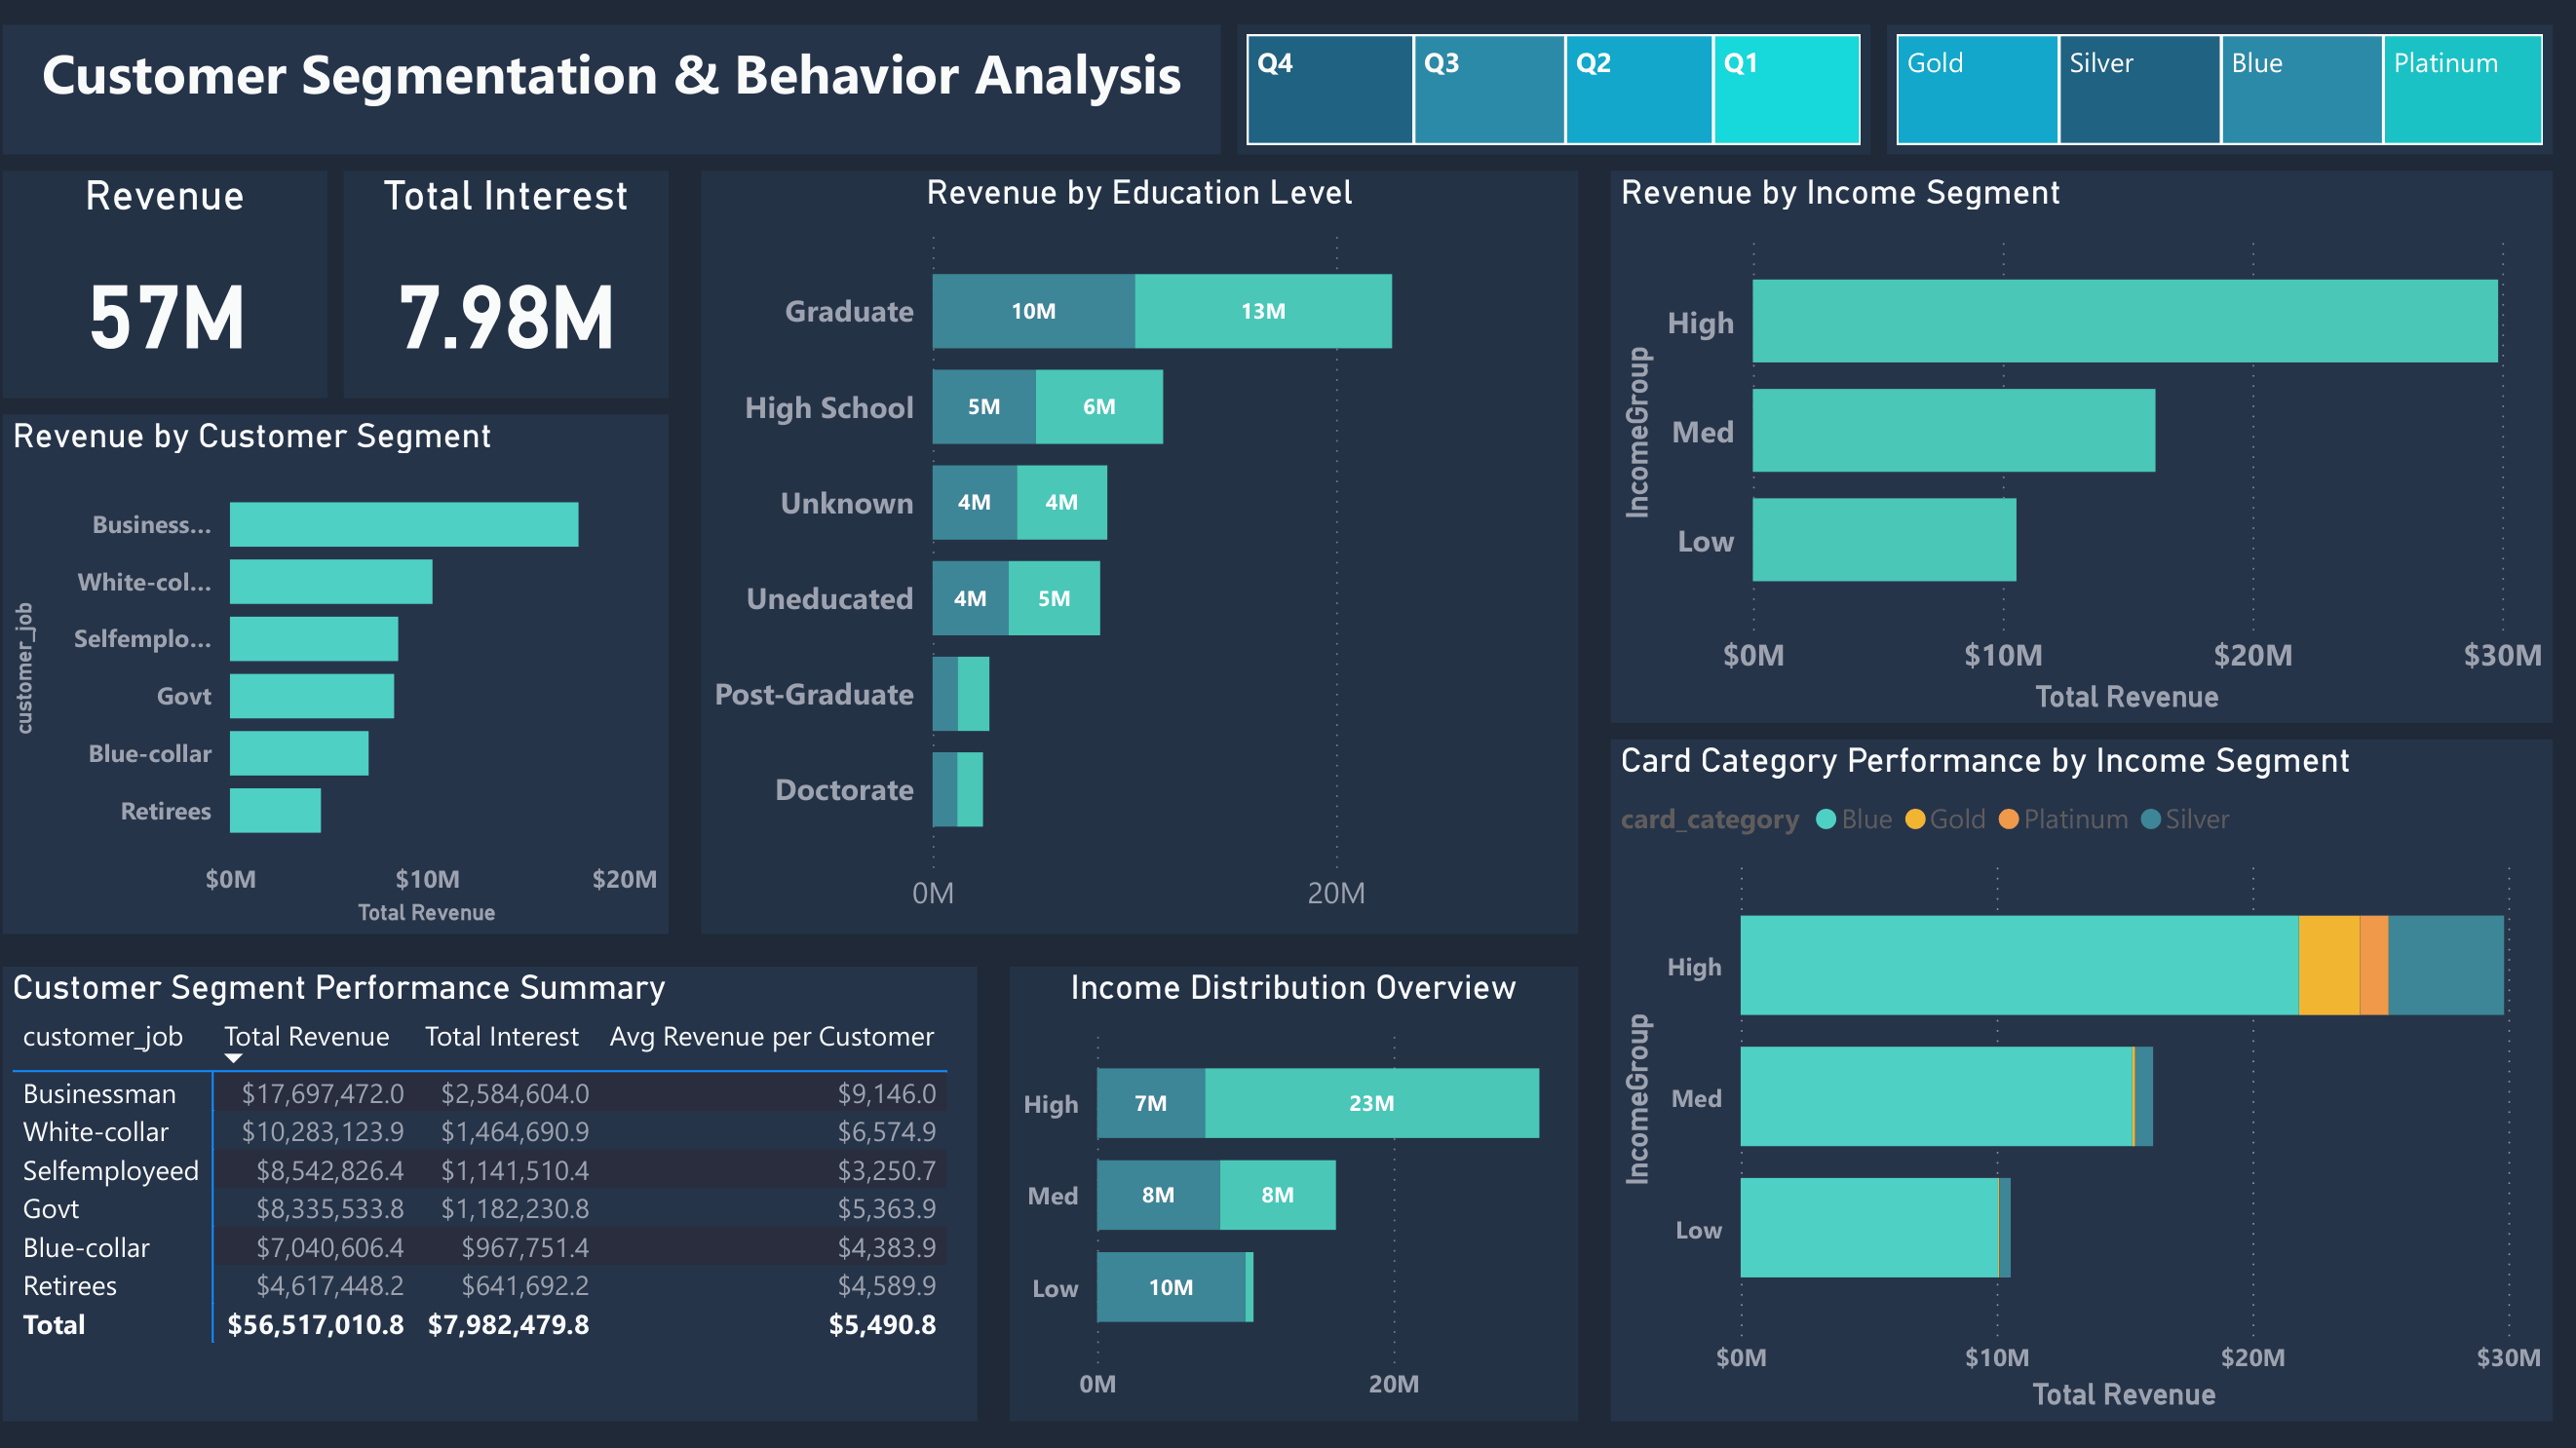

The dashboard page shown, as its layout file describes it:
{"tool":"powerbi","page":{"name":"Credit Card Customer Report","canvas":[1280,720],"ordinal":1},"visuals":[{"type":"textbox","box":[8,16,600,64],"z":0},{"type":"card","title":"Revenue","fields":{"Values":["Sum(public cc_detail.Revenue)"]},"box":[8,88,160,112],"z":1000},{"type":"card","title":"Total Interest","fields":{"Values":["Sum(public cc_detail.interest_earned)"]},"box":[176,88,160,112],"z":2000},{"type":"barChart","title":"Income Distribution Overview","fields":{"Y":["Sum(public cc_detail.Revenue)"],"Series":["public cust_detail.gender"],"Category":["public cust_detail.IncomeGroup"]},"box":[504,480,280,224],"z":3000},{"type":"barChart","title":"Revenue by Education Level","fields":{"Series":["public cust_detail.gender"],"Y":["Sum(public cc_detail.Revenue)"],"Category":["public cust_detail.education_level"]},"box":[352,88,432,376],"z":4000},{"type":"treemap","fields":{"Group":["public cc_detail.qtr"],"Values":["Avg(public cc_detail.client_num)"]},"box":[616,16,312,64],"z":5000},{"type":"treemap","fields":{"Group":["public cc_detail.card_category"],"Values":["Avg(public cc_detail.client_num)"]},"box":[936,16,328,64],"z":6000},{"type":"clusteredBarChart","title":"Revenue by Income Segment","fields":{"Category":["public cust_detail.IncomeGroup"],"Y":["MyMeasures.Total Revenue"]},"box":[800,88,464,272],"z":7000},{"type":"pivotTable","title":"Customer Segment Performance Summary","fields":{"Rows":["public cust_detail.customer_job"],"Values":["MyMeasures.Total Revenue","MyMeasures.Total Interest","MyMeasures.Avg Revenue per Customer"]},"box":[8,480,480,224],"z":8000},{"type":"barChart","title":"Card Category Performance by Income Segment","fields":{"Category":["public cust_detail.IncomeGroup"],"Y":["MyMeasures.Total Revenue"],"Series":["public cc_detail.card_category"]},"box":[800,368,464,336],"z":9000},{"type":"clusteredBarChart","title":"Revenue by Customer Segment","fields":{"Category":["public cust_detail.customer_job"],"Y":["MyMeasures.Total Revenue"]},"box":[8,208,328,256],"z":10000}]}

Visuals, with their boxes in screenshot pixels (x1, y1, x2, y2), scaled from the page's 1280x720 canvas onto the 2576x1448 screenshot:
textbox: 17:32:1223:161
"Revenue" card: 17:177:338:402
"Total Interest" card: 354:177:676:402
"Income Distribution Overview" barChart: 1015:966:1578:1416
"Revenue by Education Level" barChart: 709:177:1578:934
treemap - public cc_detail.qtr x Avg(public cc_detail.client_num): 1240:32:1867:161
treemap - public cc_detail.card_category x Avg(public cc_detail.client_num): 1884:32:2544:161
"Revenue by Income Segment" clusteredBarChart: 1610:177:2544:724
"Customer Segment Performance Summary" pivotTable: 17:966:982:1416
"Card Category Performance by Income Segment" barChart: 1610:741:2544:1416
"Revenue by Customer Segment" clusteredBarChart: 17:418:676:934
